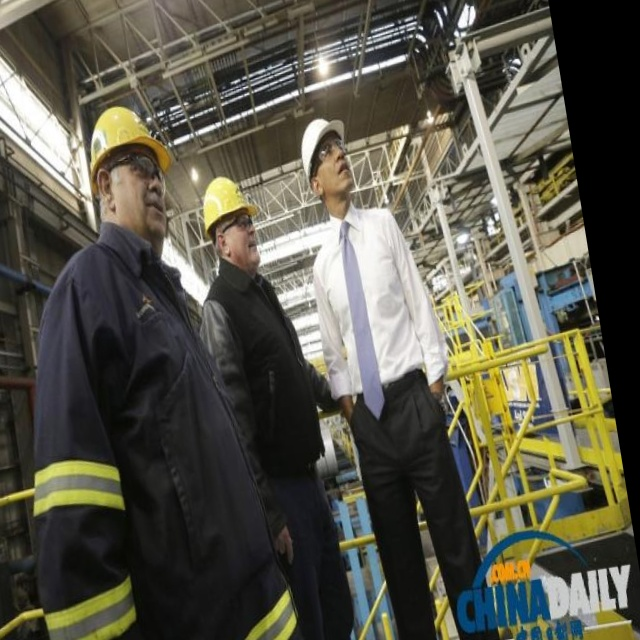Con_Casco: (80, 101, 183, 241), (294, 113, 359, 210)
Sin_Chaleco: (296, 204, 446, 406)
